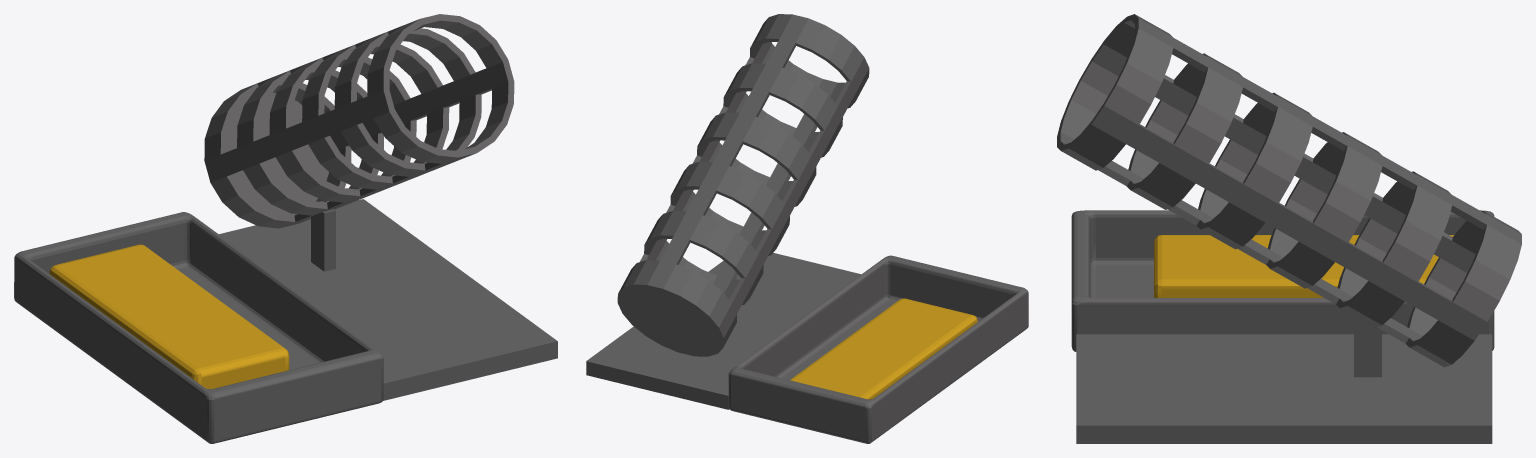
File: 3D_soldering iron stand.fbx
3 renders of one model, left to right at view 1: azimuth 30°, elevation 25°; view 2: azimuth 150°, elevation 25°; view 3: azimuth 270°, elevation 25°, orthographic. The views are drawn at different scales.
Visible parts, largest first — view 1: testt_to_unity_soldering_iron_stand_test; view 2: testt_to_unity_soldering_iron_stand_test; view 3: testt_to_unity_soldering_iron_stand_test.
Part boxes in pixels (x1,y1,x2,y2): testt_to_unity_soldering_iron_stand_test: (14,14,557,443); testt_to_unity_soldering_iron_stand_test: (586,14,1028,443); testt_to_unity_soldering_iron_stand_test: (1057,14,1521,443).
Bounding box in the file's own units: 19.09 × 18.03 × 20.51.
